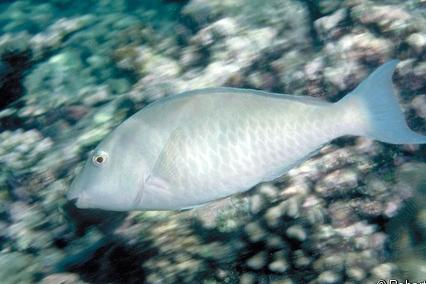Scaridae -Parrotfishes-: (61, 47, 426, 219)
